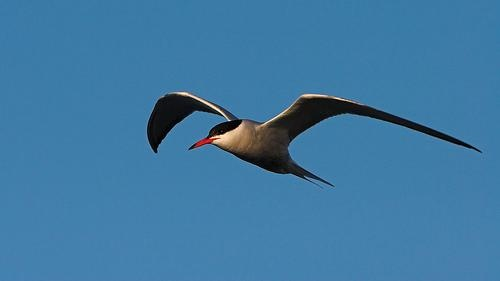bird: (136, 84, 484, 189)
